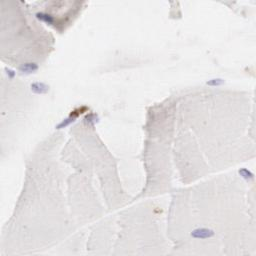nucleus: (190, 228, 214, 239), (32, 81, 49, 94), (55, 118, 74, 129), (18, 63, 37, 73), (238, 167, 253, 178), (86, 112, 100, 123), (37, 11, 51, 22), (206, 78, 225, 86), (5, 67, 15, 77)
positive_cell: (55, 104, 88, 130)
